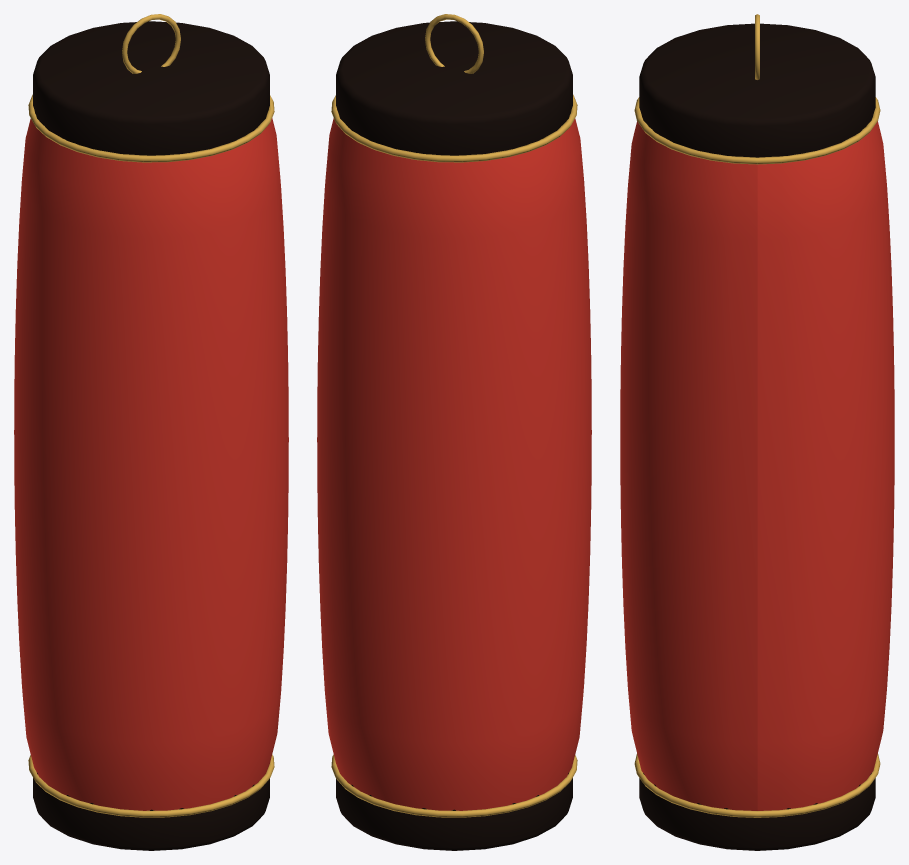
File: chochin.glb
3 renders of one model, left to right at view 1: azimuth 30°, elevation 25°; view 2: azimuth 150°, elevation 25°; view 3: azimuth 270°, elevation 25°, orthographic.
Visible parts, largest first — view 1: ChochinSkin, ChochinCapTop, ChochinCapBottom, ChochinBandTop, ChochinBandBottom, ChochinBail; view 2: ChochinSkin, ChochinCapTop, ChochinCapBottom, ChochinBandTop, ChochinBandBottom, ChochinBail; view 3: ChochinSkin, ChochinCapTop, ChochinCapBottom, ChochinBandTop, ChochinBandBottom.
Part boxes in pixels (left/top/right/bottom): ChochinSkin: left=14, top=118, right=288, bottom=810; ChochinCapTop: left=33, top=21, right=269, bottom=155; ChochinCapBottom: left=33, top=773, right=269, bottom=850; ChochinBandTop: left=28, top=94, right=274, bottom=162; ChochinBandBottom: left=28, top=754, right=274, bottom=817; ChochinBail: left=122, top=14, right=180, bottom=73; ChochinSkin: left=317, top=118, right=591, bottom=810; ChochinCapTop: left=336, top=21, right=572, bottom=155; ChochinCapBottom: left=336, top=773, right=572, bottom=850; ChochinBandTop: left=331, top=94, right=577, bottom=162; ChochinBandBottom: left=331, top=754, right=577, bottom=817; ChochinBail: left=425, top=14, right=483, bottom=73; ChochinSkin: left=620, top=121, right=894, bottom=810; ChochinCapTop: left=639, top=23, right=875, bottom=157; ChochinCapBottom: left=639, top=773, right=875, bottom=850; ChochinBandTop: left=634, top=97, right=880, bottom=164; ChochinBandBottom: left=634, top=753, right=880, bottom=817.
Size of the model in its own units: 0.23 by 0.727 by 0.23.
